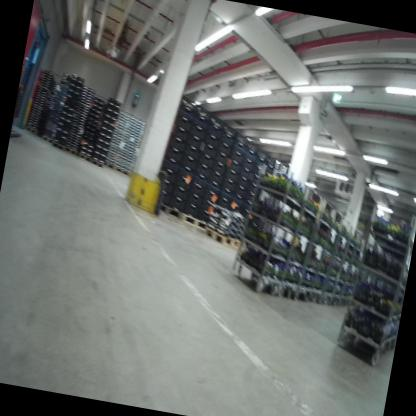pallet: (203, 223, 252, 252), (179, 208, 212, 235), (150, 199, 187, 222), (24, 124, 44, 137), (114, 164, 134, 176), (76, 150, 92, 164), (89, 158, 107, 170), (63, 145, 80, 157), (38, 132, 54, 143), (50, 139, 66, 150), (105, 159, 117, 169)
